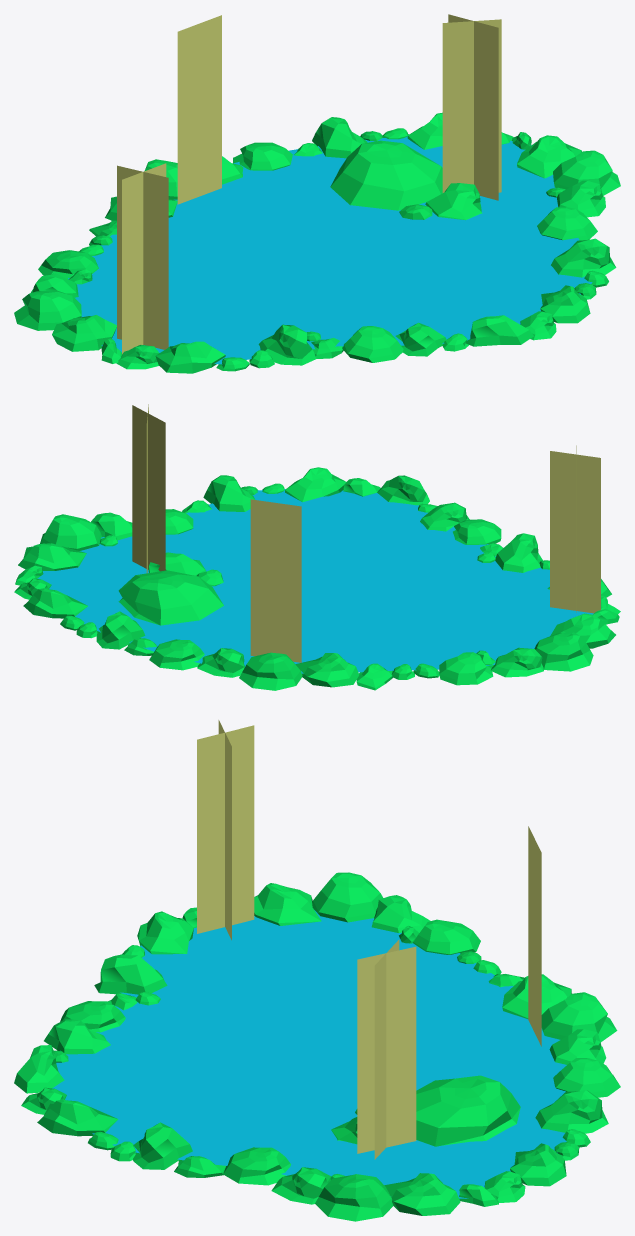
The model's file is Fish_pond.fbx.
3 renders of one model, top to bottom at view 1: azimuth 30°, elevation 25°; view 2: azimuth 150°, elevation 25°; view 3: azimuth 270°, elevation 25°, orthographic. The views are drawn at different scales.
Parts seen in each view (by area): view 1: water, stones, riet4, riet1, riet2, riet, riet3; view 2: water, stones, riet4, riet3, riet1; view 3: water, stones, riet2, riet, riet4, riet1, riet3.
Boxes of the visible parts, bbox=[...] form: water: bbox=[68, 136, 592, 364]; stones: bbox=[14, 112, 620, 373]; riet4: bbox=[177, 15, 221, 204]; riet1: bbox=[442, 19, 501, 192]; riet2: bbox=[117, 165, 168, 349]; riet: bbox=[448, 14, 498, 200]; riet3: bbox=[122, 163, 166, 354]; water: bbox=[37, 489, 593, 673]; stones: bbox=[14, 467, 620, 690]; riet4: bbox=[250, 499, 301, 662]; riet3: bbox=[550, 451, 600, 613]; riet1: bbox=[132, 405, 165, 571]; water: bbox=[52, 910, 566, 1198]; stones: bbox=[14, 872, 620, 1221]; riet2: bbox=[197, 725, 254, 933]; riet: bbox=[357, 946, 416, 1153]; riet4: bbox=[528, 826, 541, 1046]; riet1: bbox=[374, 939, 399, 1159]; riet3: bbox=[218, 720, 231, 940].
Bounding box in the file's own units: 10.26 × 2.98 × 7.97.
